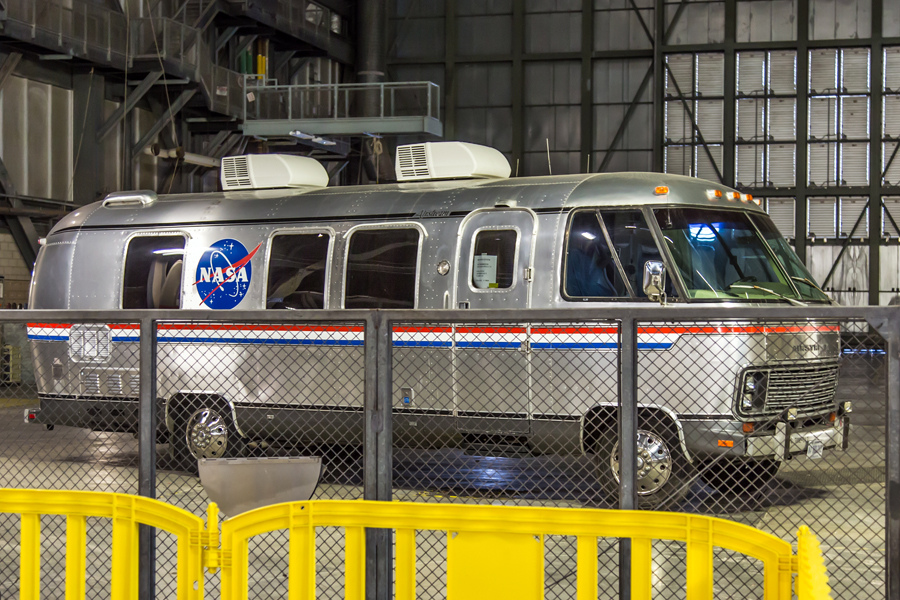NASA: (189, 229, 268, 317)
